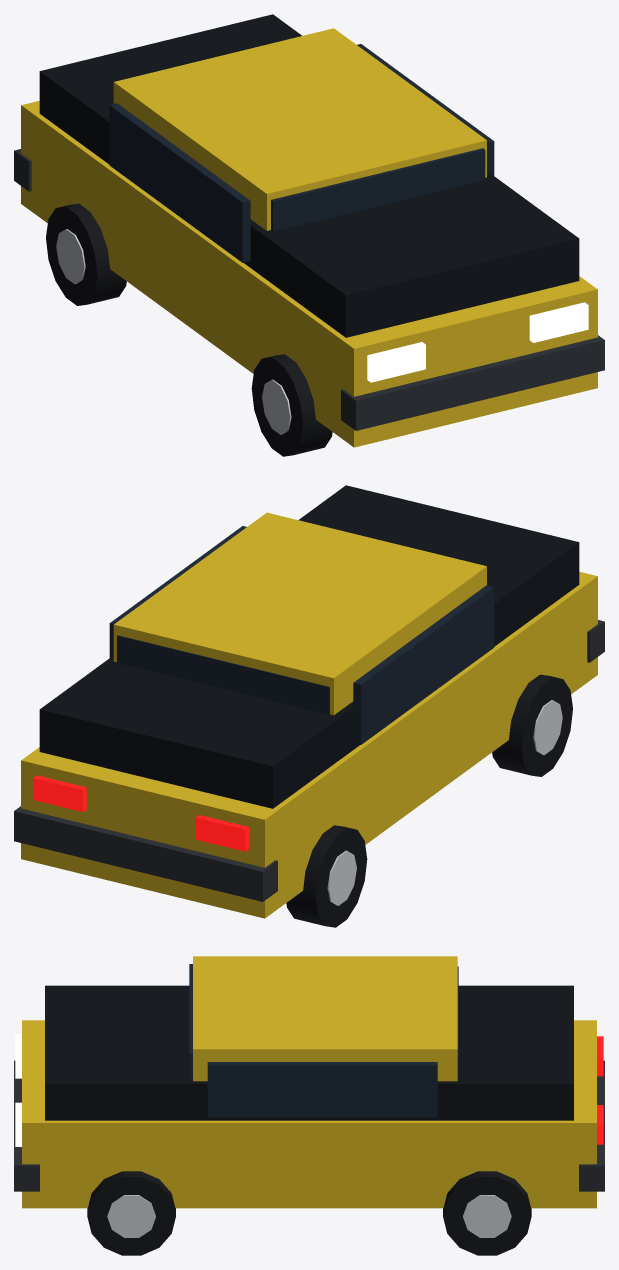
File: mobil_umum_2.glb
The picture shows the model from 3 angles, top to bottom: view 1: azimuth 30°, elevation 25°; view 2: azimuth 150°, elevation 25°; view 3: azimuth 270°, elevation 25°; orthographic projection. The views are drawn at different scales.
Parts seen in each view (by area): view 1: object 1, object 2, object 3, object 6, object 8, object 4, wheel_rl, wheel_fl, object 12, object 10, object 7, object 9; view 2: object 1, object 2, object 3, object 6, object 9, object 5, wheel_fl, wheel_rl, object 11, object 13, object 7, object 8; view 3: object 1, object 2, object 3, object 7, wheel_fr, wheel_rr, object 9, object 8, object 4.
Boxes of the visible parts, x1,y1,x2,y2 form: object 1: [21, 101, 597, 447]; object 2: [39, 14, 579, 337]; object 3: [113, 28, 486, 230]; object 6: [109, 103, 250, 262]; object 8: [341, 335, 604, 430]; object 4: [271, 148, 485, 231]; wheel_rl: [46, 203, 126, 305]; wheel_fl: [251, 354, 332, 456]; object 12: [529, 302, 588, 342]; object 10: [367, 342, 425, 382]; object 7: [357, 44, 494, 175]; object 9: [14, 149, 31, 191]; object 1: [21, 572, 597, 918]; object 2: [39, 485, 579, 808]; object 3: [113, 512, 486, 715]; object 6: [353, 585, 494, 744]; object 9: [14, 806, 277, 901]; object 5: [117, 635, 329, 714]; wheel_fl: [492, 674, 572, 776]; wheel_rl: [286, 825, 367, 927]; object 11: [195, 815, 249, 851]; object 13: [33, 775, 86, 811]; object 7: [109, 526, 246, 657]; object 8: [587, 620, 604, 662]; object 1: [22, 1020, 596, 1208]; object 2: [45, 985, 573, 1120]; object 3: [193, 956, 457, 1081]; object 7: [207, 1062, 437, 1117]; wheel_fr: [87, 1171, 175, 1255]; wheel_rr: [443, 1171, 531, 1255]; object 9: [579, 1060, 604, 1191]; object 8: [14, 1060, 39, 1191]; object 4: [189, 964, 192, 1079].
Size of the model in its own units: 2.08 by 1.65 by 4.52.
